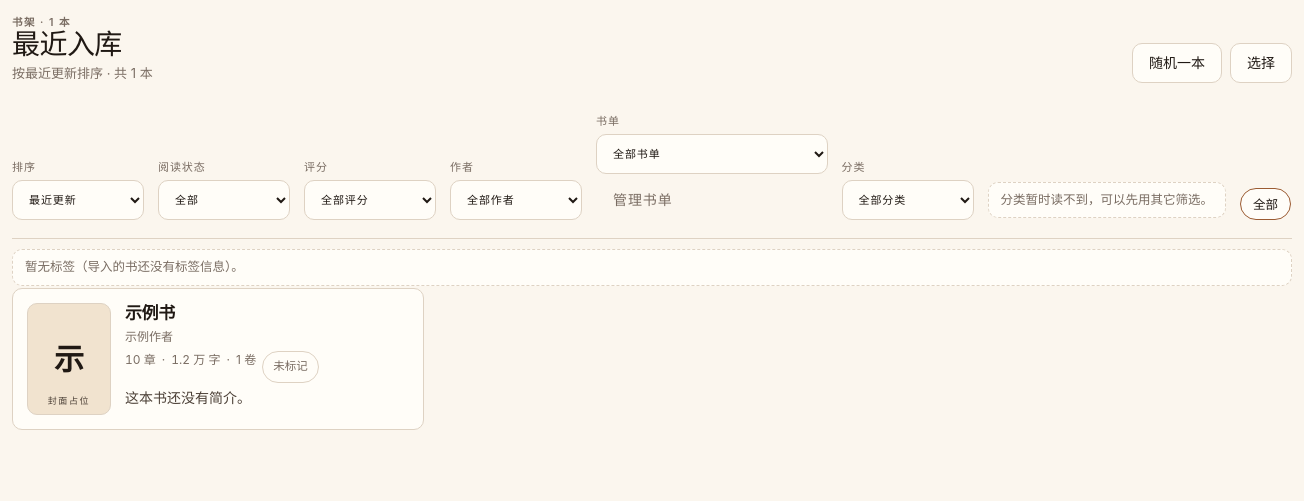
书架：评分筛选与按评分排序 › 清除筛选把评分也一起还原
Select "2 星" in the dropdown with test id "filter-rating" at [370, 200], box 304,180 -> 436,220
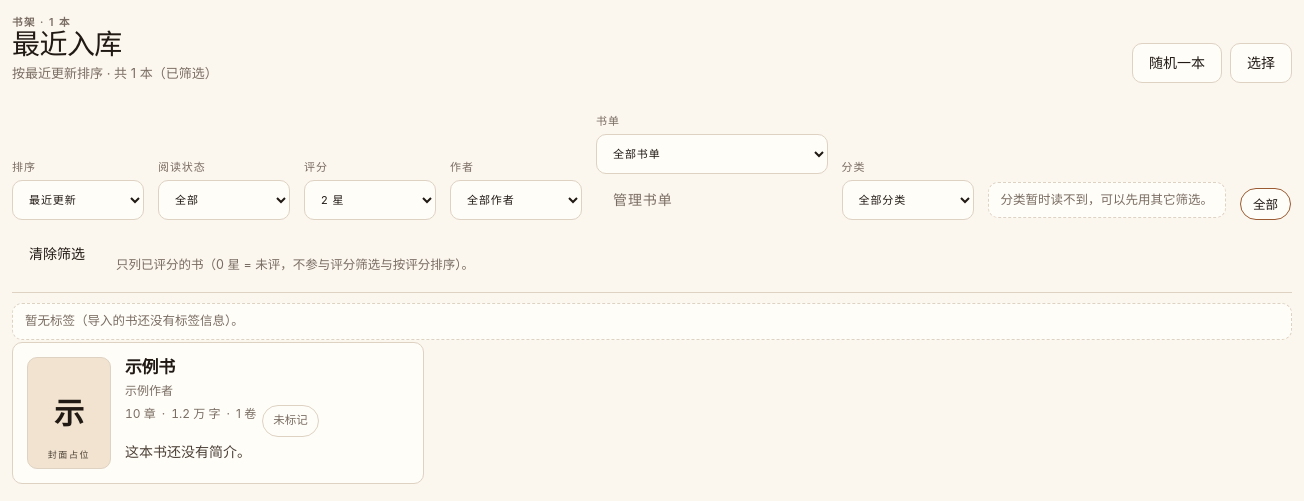
Click the button "清除筛选".
click(57, 254)  # box 12,234 -> 102,274
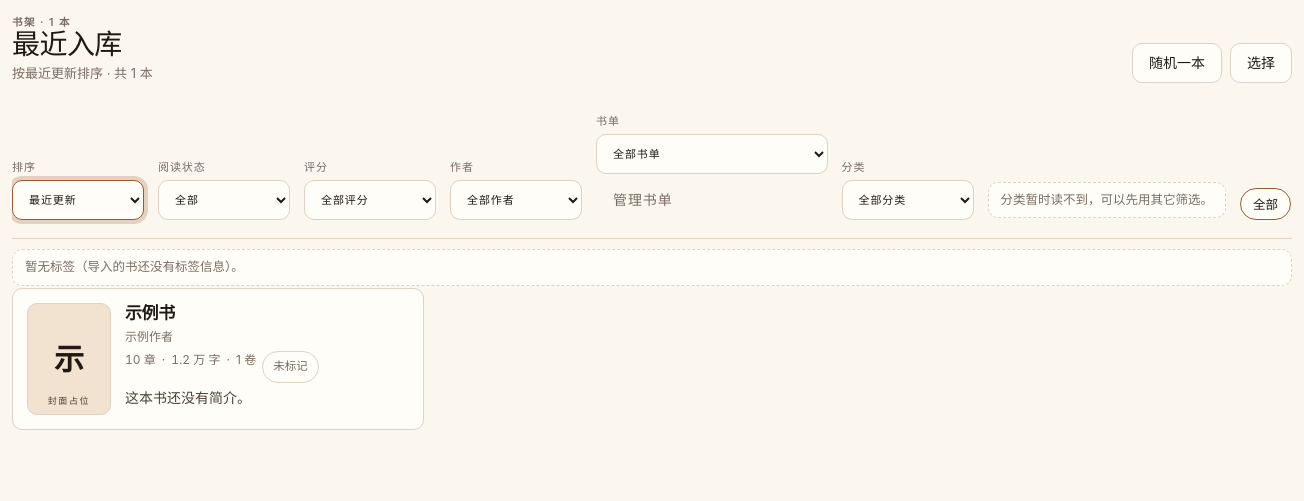
Expected: the text with test id "rating-filter-hint" is gone
